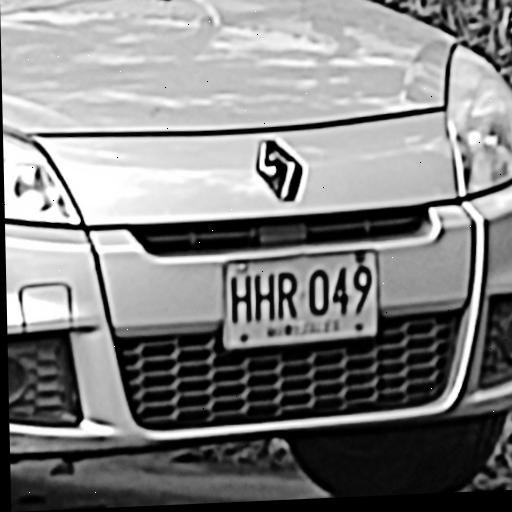placa: (223, 246, 381, 354)
